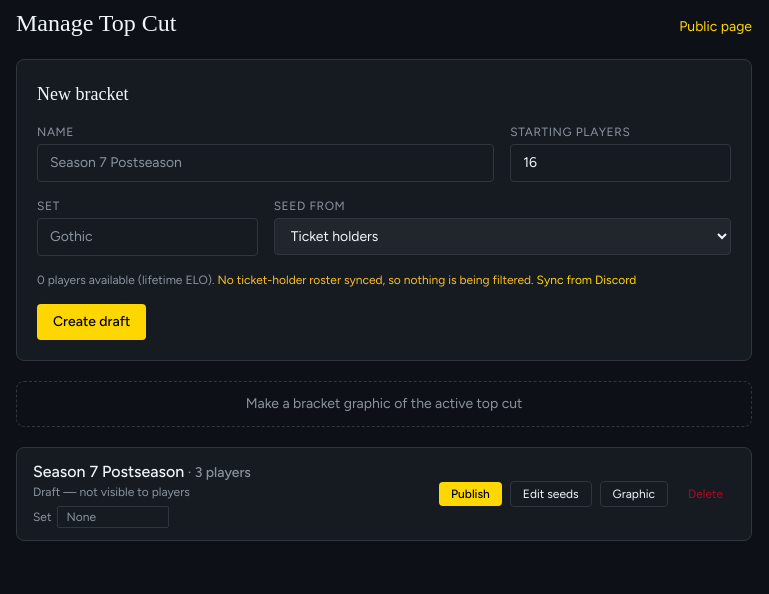
Test: BracketsAdmin › reports a failed ticket sync
Step 1. Click the button "Sync from Discord" → [586, 280], box [537,272,636,288]
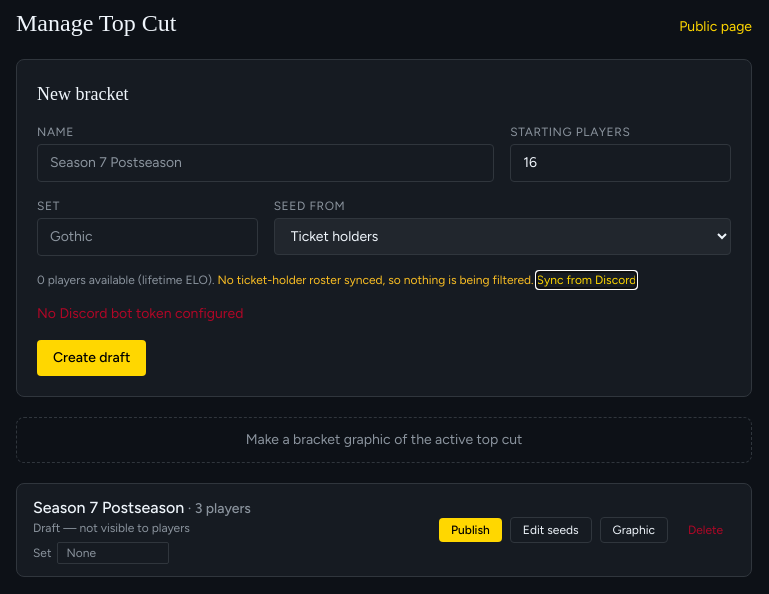
Result: the text "No Discord bot token configured" is shown at [37,305,243,322]
